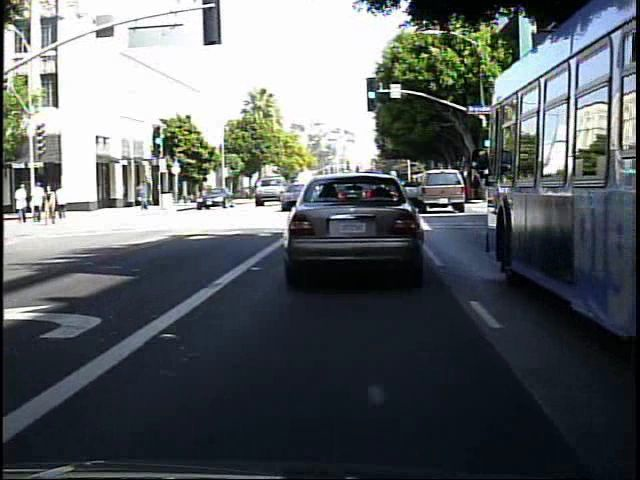person: (14, 180, 33, 226), (31, 181, 48, 224), (133, 177, 152, 215), (41, 184, 56, 226), (57, 181, 72, 221), (46, 184, 60, 220)
